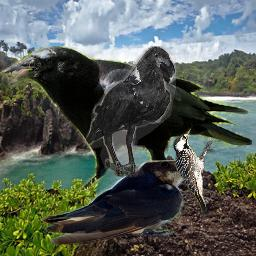Crow: (0, 46, 252, 192), (86, 46, 176, 177)
Swallow: (42, 160, 195, 246)
Woodpecker: (173, 128, 215, 220)
